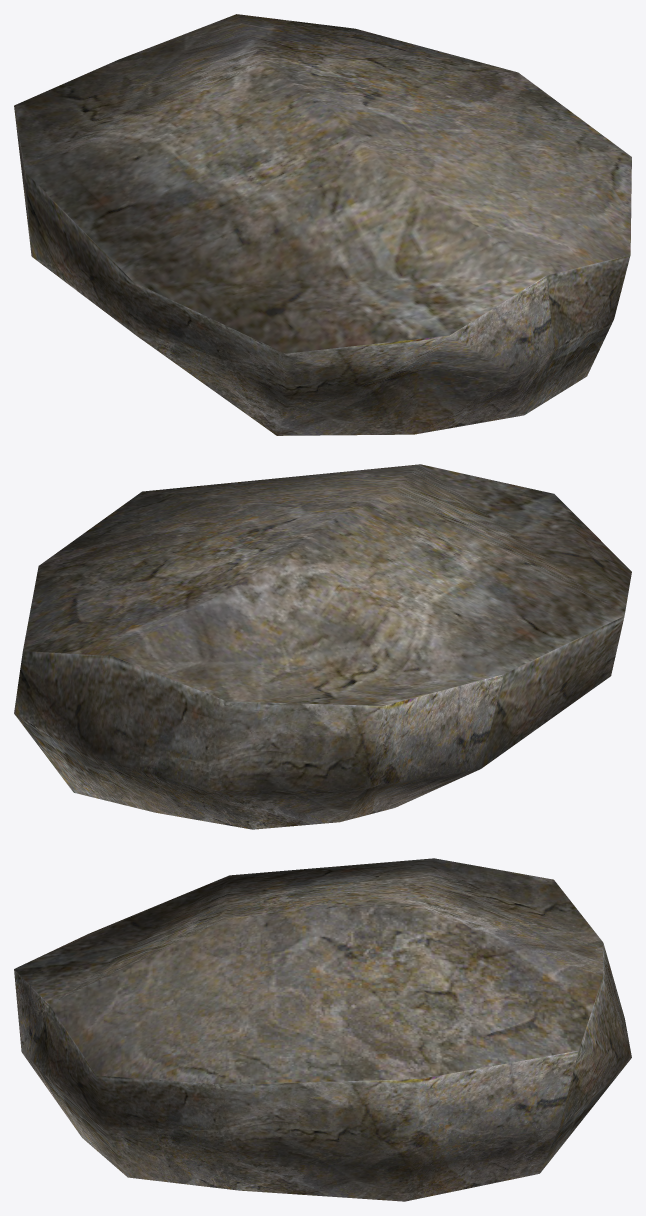
The model's file is Stone-01.fbx.
3 views of the same model, one above another, from view 1: azimuth 30°, elevation 25°; view 2: azimuth 150°, elevation 25°; view 3: azimuth 270°, elevation 25° (orthographic). The views are drawn at different scales.
Parts seen in each view (by area): view 1: Stone-01; view 2: Stone-01; view 3: Stone-01.
Boxes of the visible parts, box(x1,y1,x2,y2) form: Stone-01: box(14, 14, 631, 435); Stone-01: box(14, 464, 631, 829); Stone-01: box(14, 858, 631, 1201).
Size of the model in its own units: 657 by 322 by 802.
